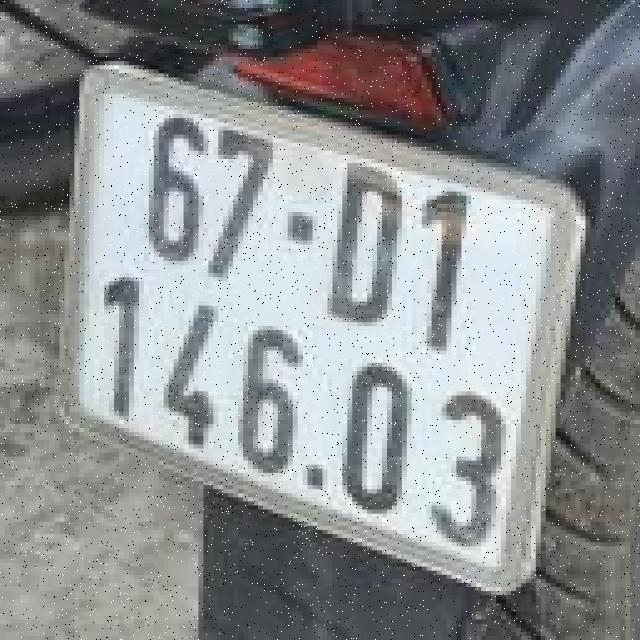0: (335, 352, 414, 520)
1: (417, 181, 476, 357), (87, 267, 151, 426)
3: (429, 379, 509, 559)
4: (161, 294, 216, 456)
6: (238, 322, 308, 485), (144, 110, 198, 269)
7: (206, 118, 280, 290)
D: (325, 157, 409, 344)
